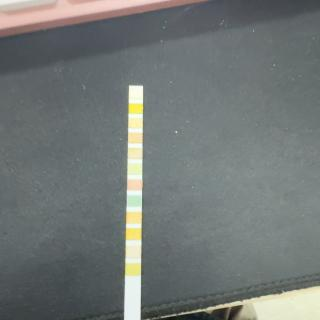mark: (126, 244, 140, 258), (126, 228, 140, 240), (127, 212, 141, 224), (128, 148, 142, 160), (126, 264, 139, 276), (128, 196, 142, 207), (128, 179, 142, 190), (128, 118, 142, 129), (128, 164, 142, 174), (128, 133, 142, 143), (129, 104, 143, 114), (128, 88, 142, 98)
